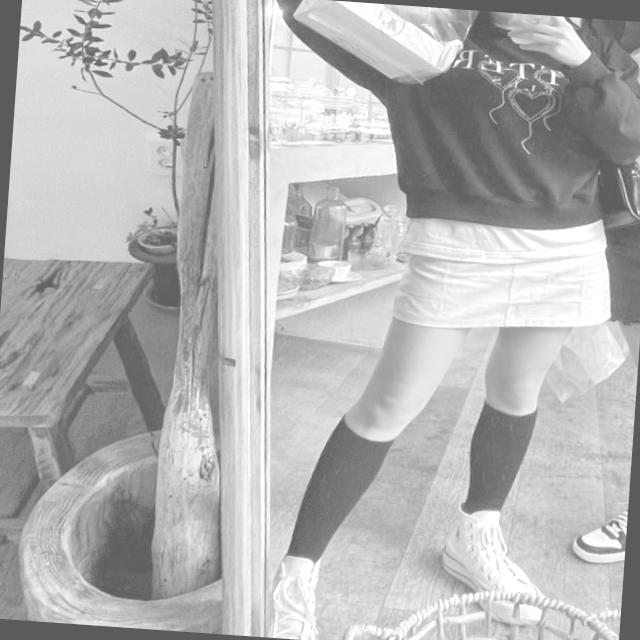mtm: (258, 0, 640, 236)
skirt: (393, 214, 619, 343)
